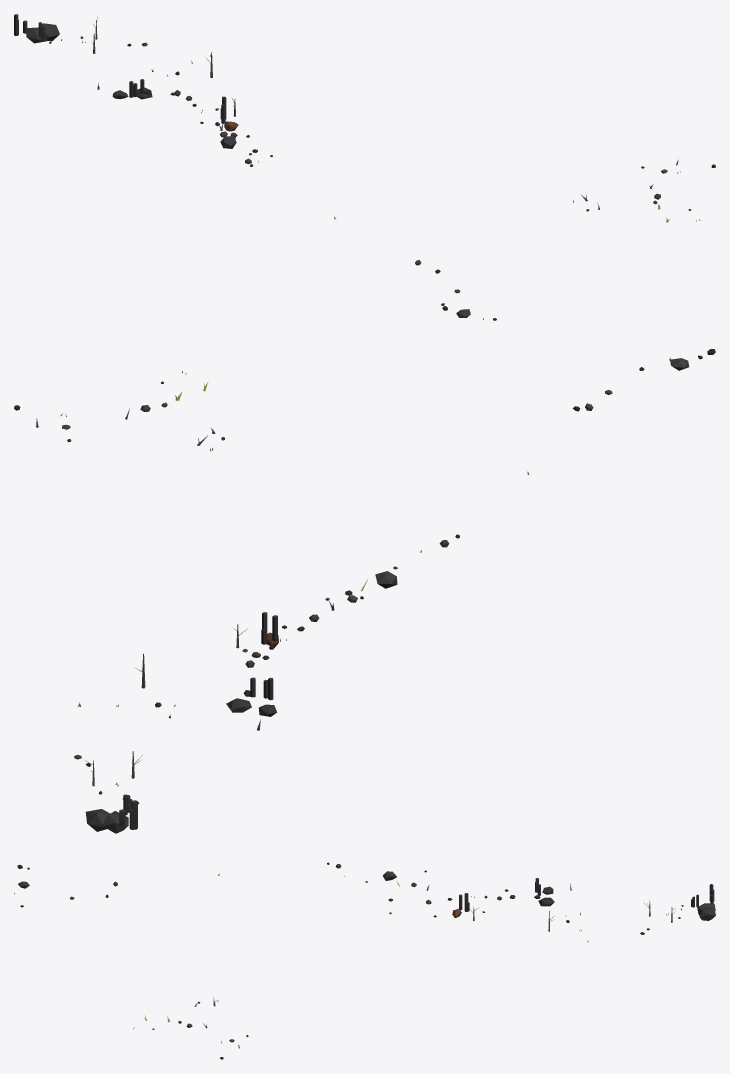
The model's file is ash_land_scatter_c22_28_lod1.glb.
The picture shows the model from 3 angles, top to bottom: view 1: azimuth 30°, elevation 25°; view 2: azimuth 150°, elevation 25°; view 3: azimuth 270°, elevation 25°; orthographic projection. The views are drawn at different scales.
Parts seen in each view (by area): view 1: ash_land_scatter_c22_28_lod1; view 2: ash_land_scatter_c22_28_lod1; view 3: ash_land_scatter_c22_28_lod1.
Boxes of the visible parts, bbox=[...] form: ash_land_scatter_c22_28_lod1: bbox=[14, 14, 715, 320]; ash_land_scatter_c22_28_lod1: bbox=[14, 349, 715, 833]; ash_land_scatter_c22_28_lod1: bbox=[14, 862, 715, 1059].
Bounding box in the file's own units: 108 × 14.26 × 204.
